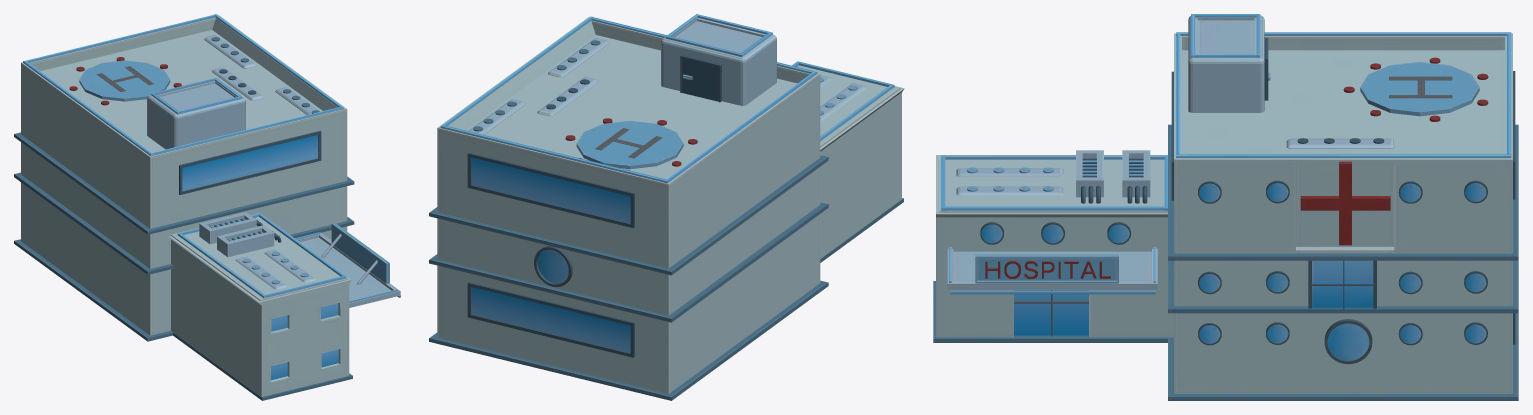
The model's file is hospital_free_model.glb.
3 views of the same model, side by side, from view 1: azimuth 30°, elevation 25°; view 2: azimuth 150°, elevation 25°; view 3: azimuth 270°, elevation 25° (orthographic). The views are drawn at different scales.
Visible parts, largest first — view 1: Node; view 2: Node; view 3: Node.
Part boxes in pixels (x1,y1,x2,y2): Node: (14, 14, 400, 400); Node: (429, 14, 904, 400); Node: (933, 14, 1518, 400).
Bounding box in the file's own units: 334 × 329 × 625.
Materials: 1 (1 with a texture image).
